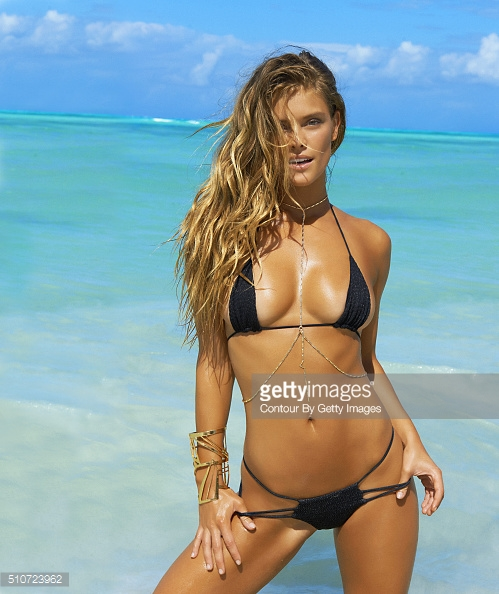em pe: (164, 32, 423, 594)
